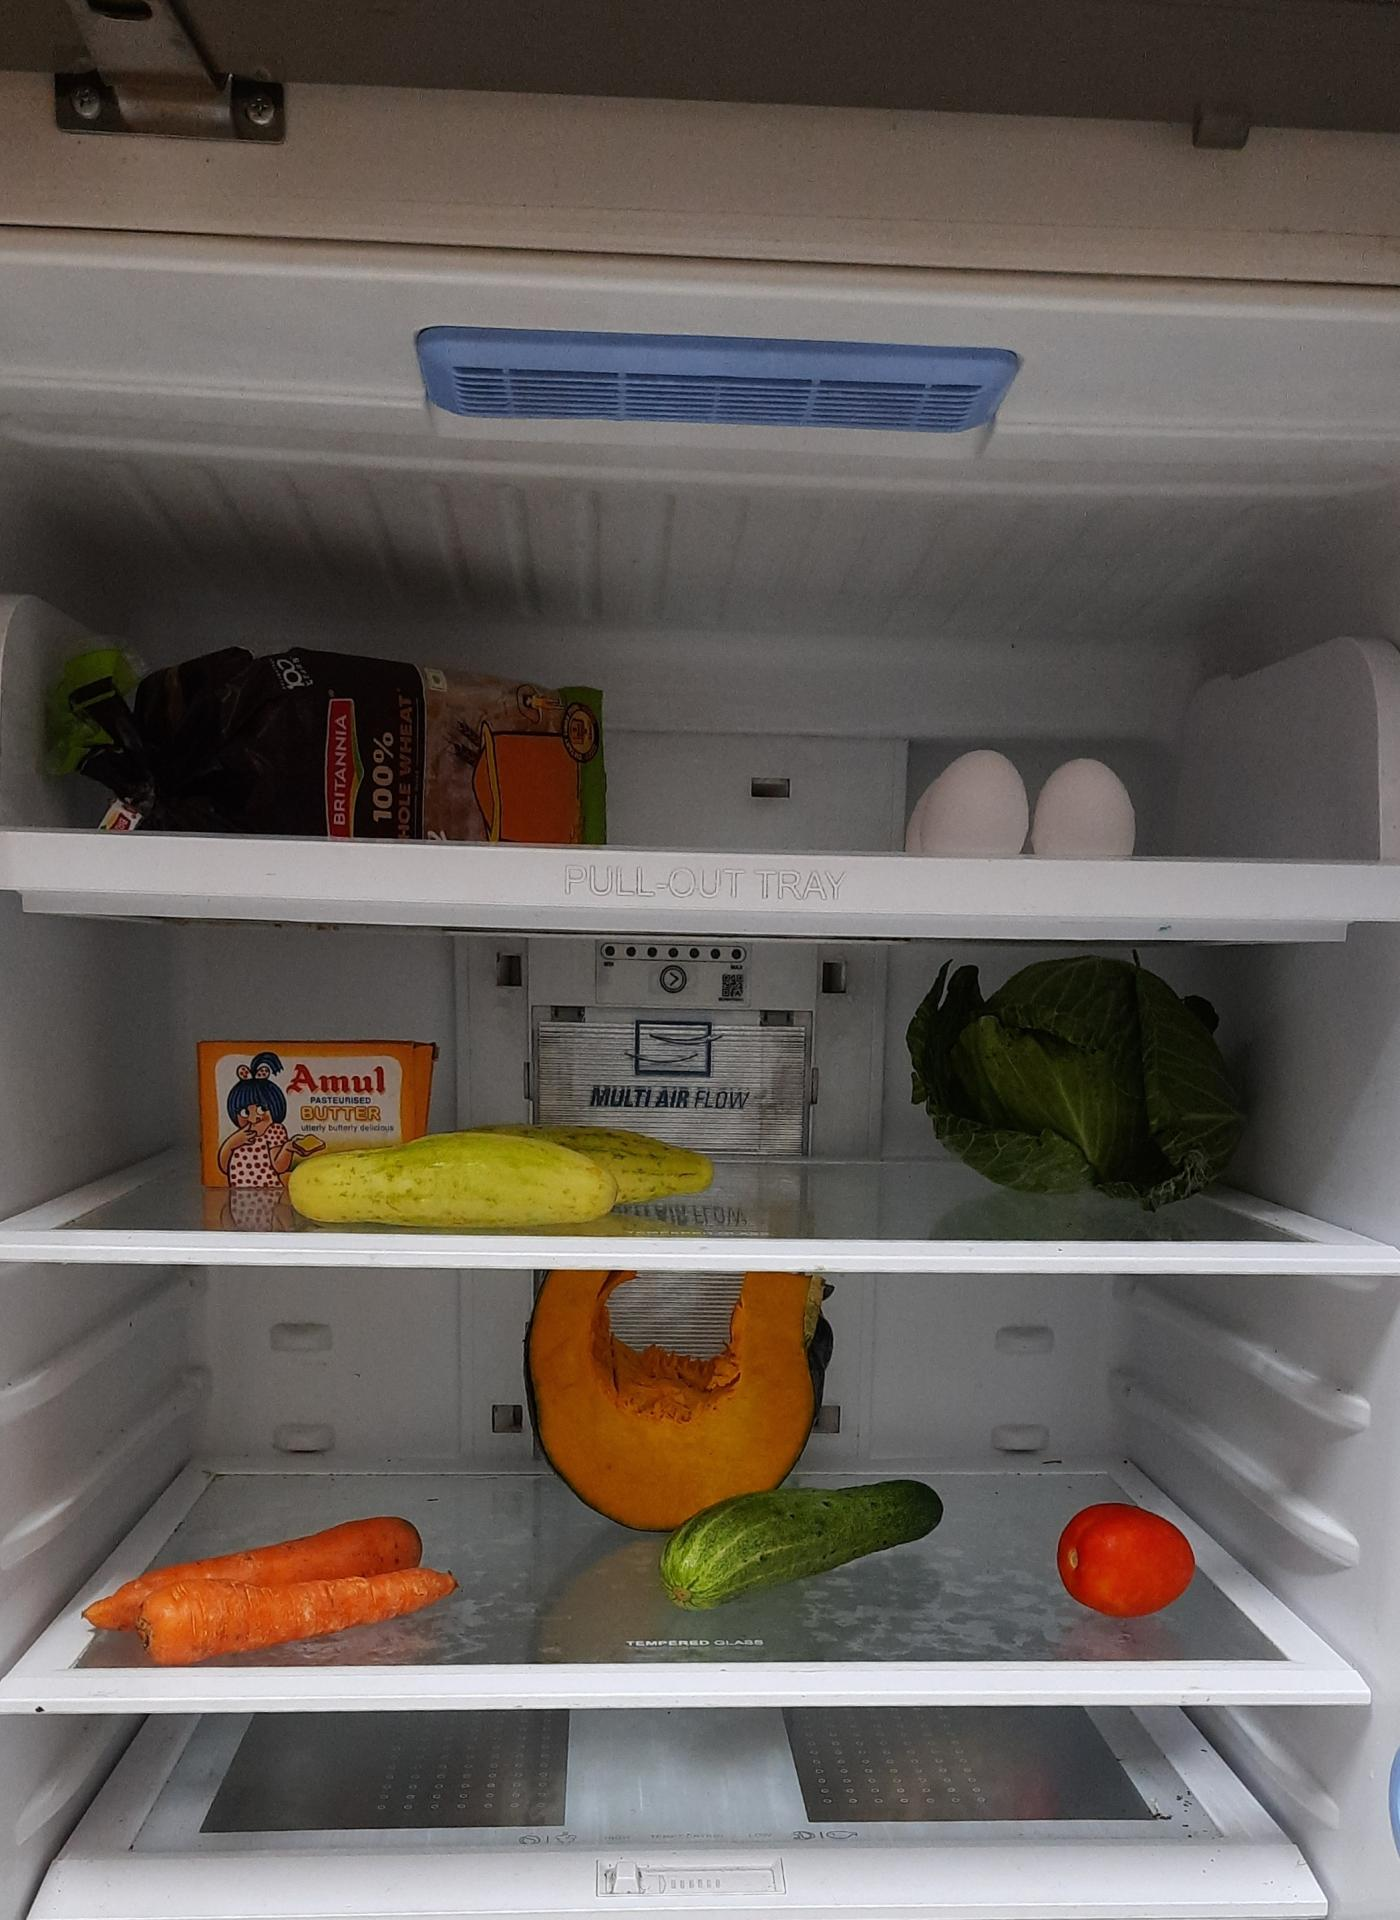bread: (85, 637, 620, 833)
butter: (203, 1038, 447, 1170)
cabbage: (911, 961, 1243, 1207)
carrots: (86, 1515, 461, 1653)
cucumber: (283, 1118, 722, 1234), (663, 1483, 954, 1613)
egg: (904, 751, 1139, 868)
pumpkin: (525, 1273, 838, 1537)
tomato: (1057, 1501, 1202, 1622)
